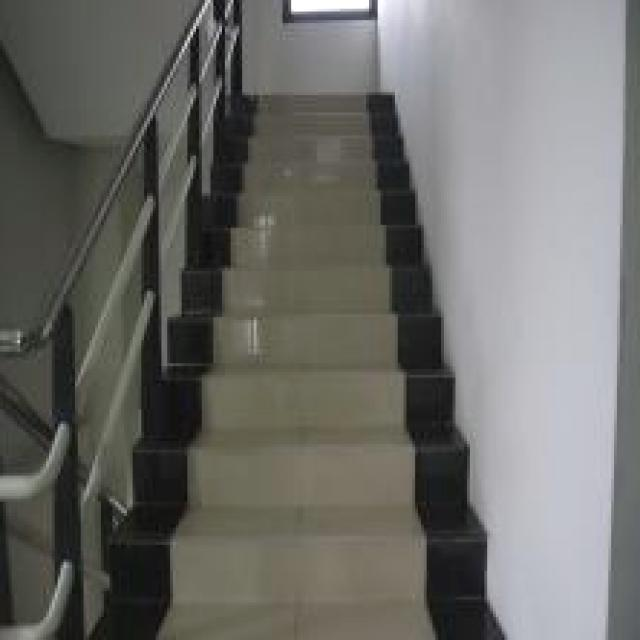upstair: (226, 76, 453, 640)
